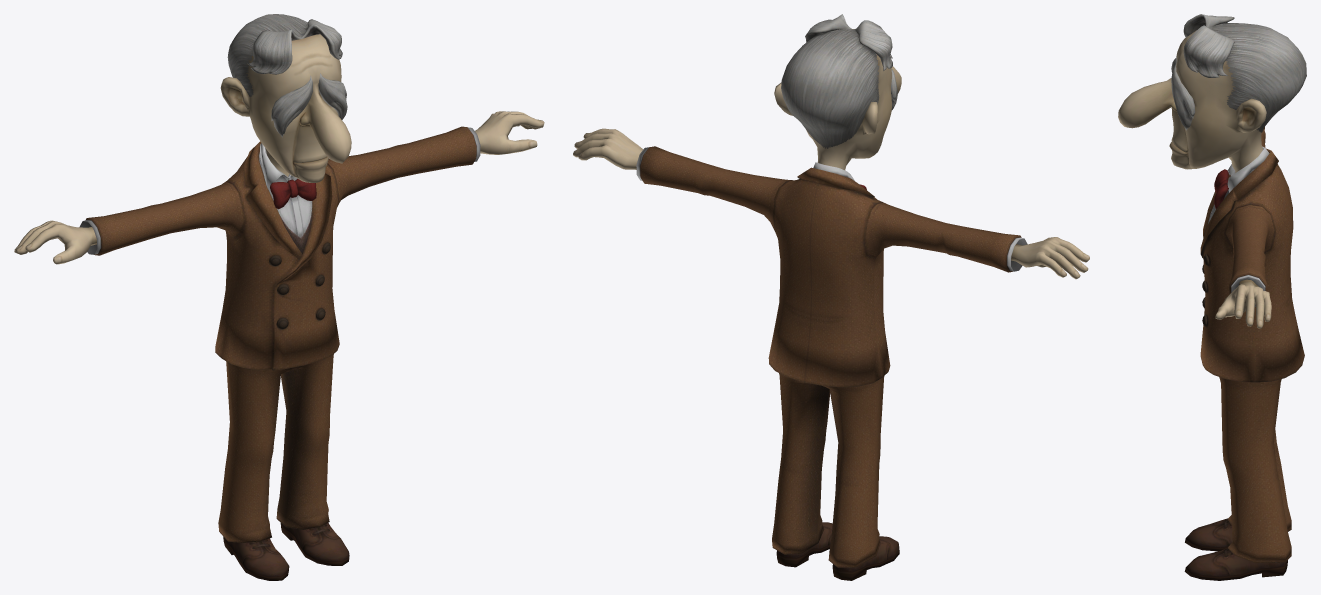
File: Professor_Pickle.obj
3 renders of one model, left to right at view 1: azimuth 30°, elevation 25°; view 2: azimuth 150°, elevation 25°; view 3: azimuth 270°, elevation 25°, orthographic. The views are drawn at different scales.
Parts seen in each view (by area): view 1: npc_professor_hi; view 2: npc_professor_hi; view 3: npc_professor_hi.
Boxes of the visible parts, bbox=[...] form: npc_professor_hi: bbox=[14, 14, 544, 580]; npc_professor_hi: bbox=[573, 14, 1089, 580]; npc_professor_hi: bbox=[1118, 14, 1306, 580].
Size of the model in its own units: 1.71 by 1.67 by 0.5324.
